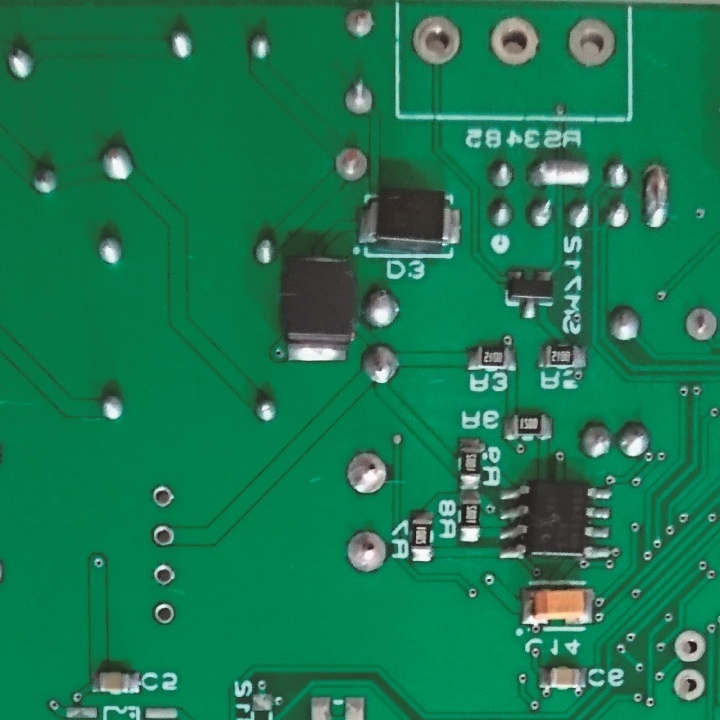F: (564, 14, 619, 71), (410, 12, 463, 68), (486, 12, 540, 66), (344, 527, 388, 579), (344, 449, 389, 496), (680, 300, 719, 345), (331, 142, 370, 183), (343, 6, 379, 47), (343, 78, 378, 118), (673, 663, 707, 703), (673, 629, 709, 666), (150, 522, 175, 549), (151, 560, 176, 587), (150, 482, 174, 509), (153, 599, 175, 626)
P: (639, 160, 672, 234), (526, 157, 593, 191)
